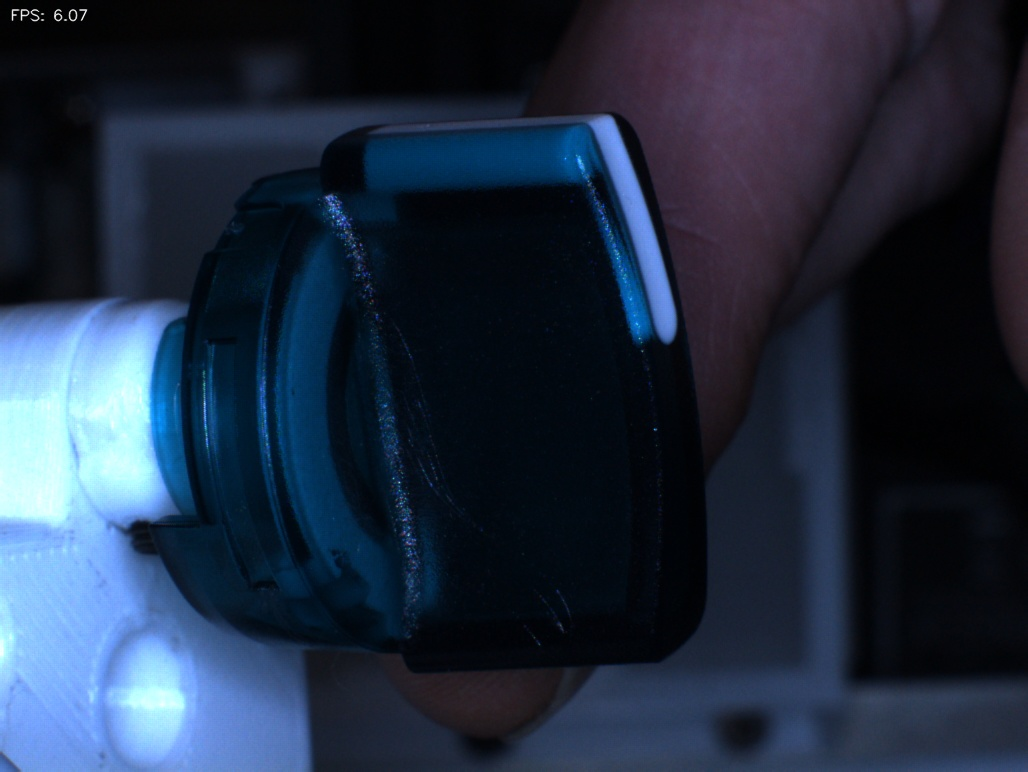Givrage: (386, 311, 562, 634)
